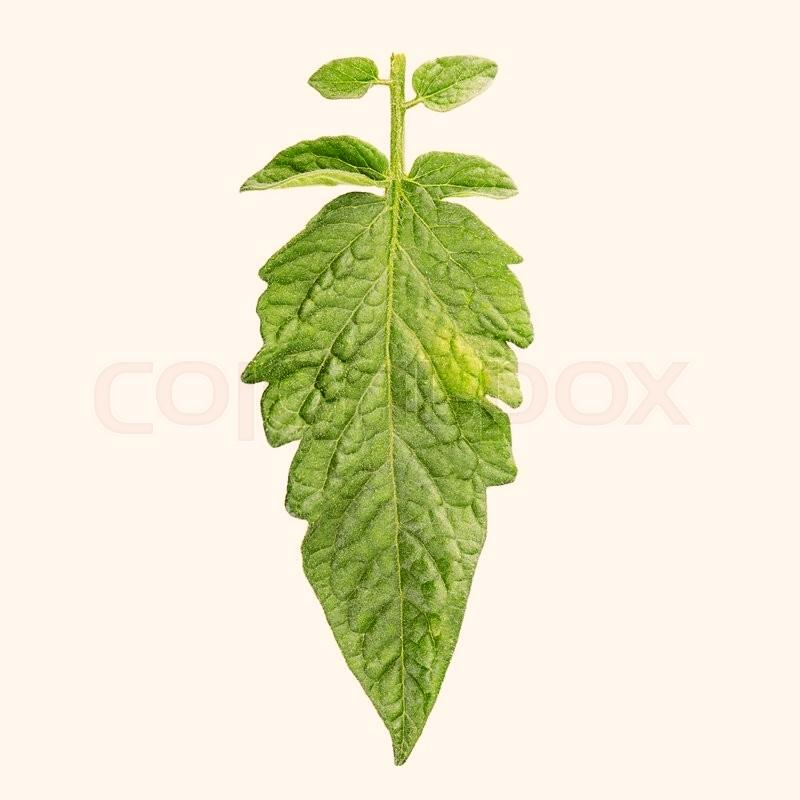Tomato leaf: (249, 38, 524, 782)
